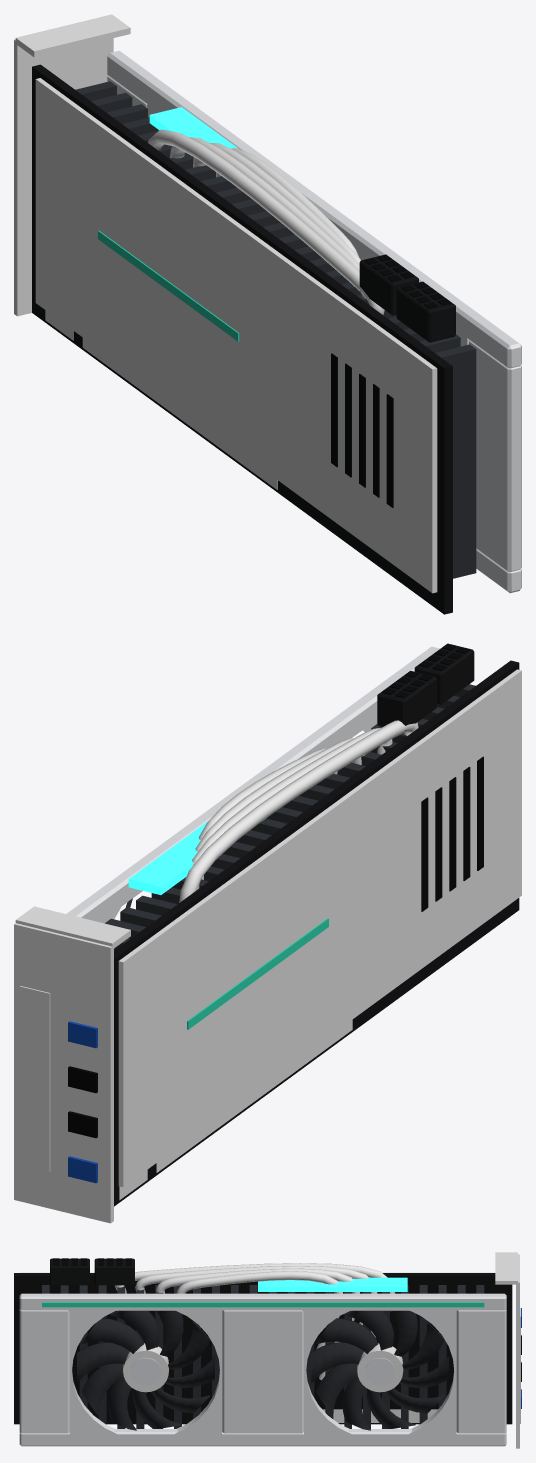
The model's file is hw_gpu_rtx4070ti.glb.
The picture shows the model from 3 angles, top to bottom: view 1: azimuth 30°, elevation 25°; view 2: azimuth 150°, elevation 25°; view 3: azimuth 270°, elevation 25°; orthographic projection. The views are drawn at different scales.
Parts seen in each view (by area): view 1: Body; view 2: Body; view 3: Body, Rotor_X_0, Rotor_X_1.
Boxes of the visible parts, x1,y1,x2,y2 form: Body: (14, 14, 521, 614); Body: (14, 643, 521, 1223); Body: (14, 1252, 521, 1448); Rotor_X_0: (311, 1311, 449, 1430); Rotor_X_1: (77, 1311, 214, 1430).
Bounding box in the file's own units: 0.0367 × 0.1006 × 0.2721.
